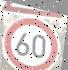Speed Limit -60-: (0, 9, 63, 70)
